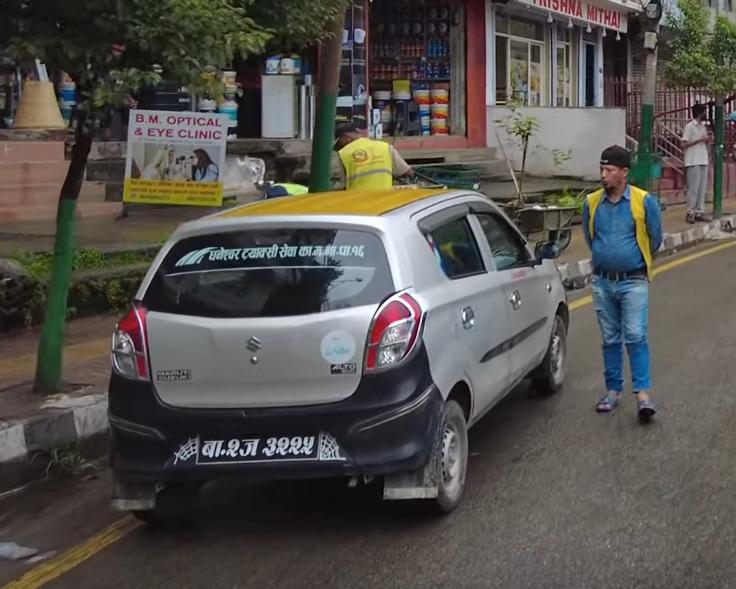taxi: (98, 174, 578, 521)
